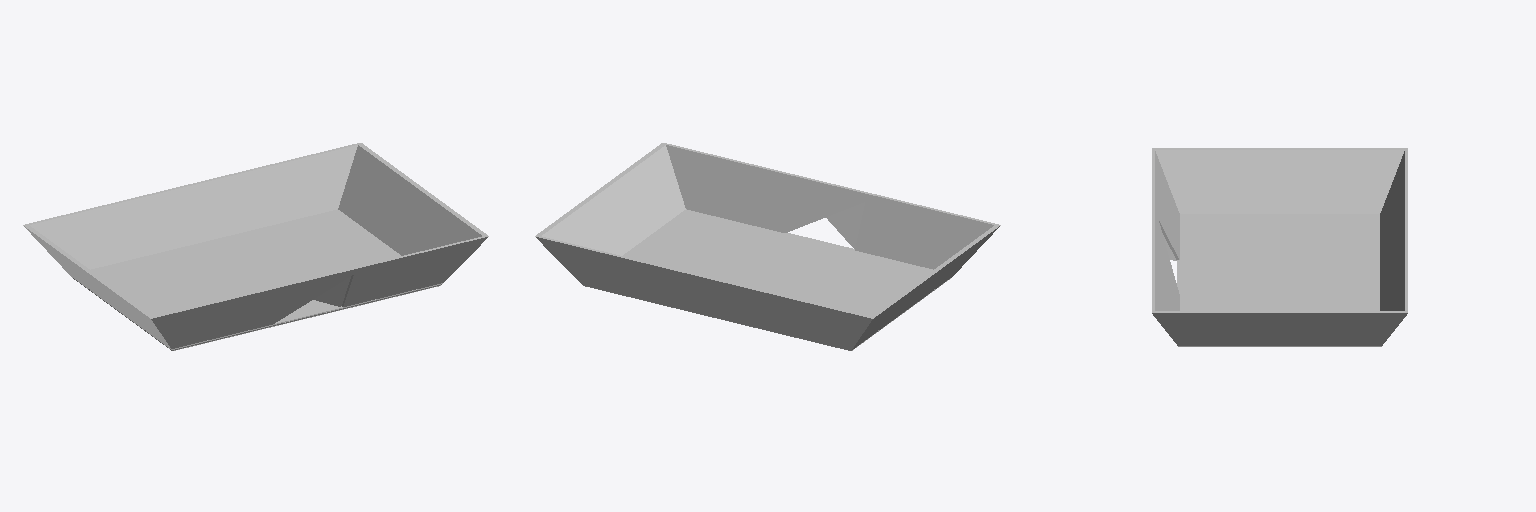
File: StartRoom 3.obj
The picture shows the model from 3 angles: view 1: azimuth 30°, elevation 25°; view 2: azimuth 150°, elevation 25°; view 3: azimuth 270°, elevation 25°; orthographic projection.
Visible parts, largest first — view 1: StartRoom, Piso1; view 2: StartRoom, Piso1; view 3: StartRoom, Piso1.
Part boxes in pixels (left/top/right/bottom): StartRoom: left=23, top=143, right=488, bottom=350; Piso1: left=89, top=209, right=442, bottom=349; StartRoom: left=535, top=143, right=1000, bottom=350; Piso1: left=623, top=209, right=934, bottom=330; StartRoom: left=1152, top=148, right=1407, bottom=346; Piso1: left=1177, top=214, right=1379, bottom=310.
Size of the model in its own units: 35 by 5 by 23.